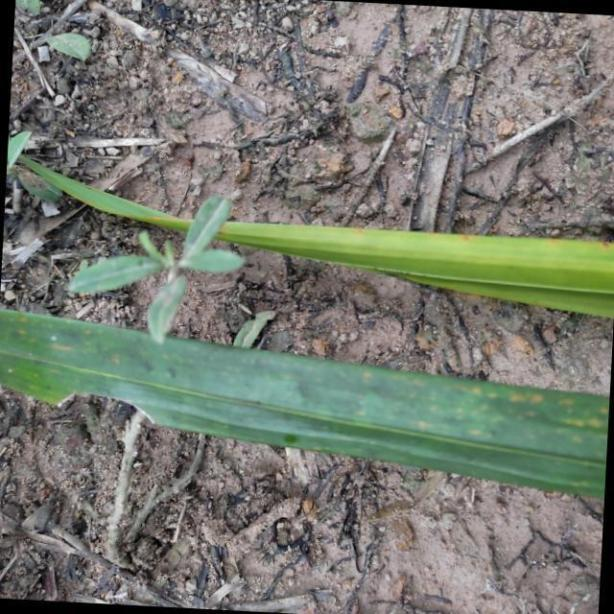nitrogen: (30, 152, 614, 312)
